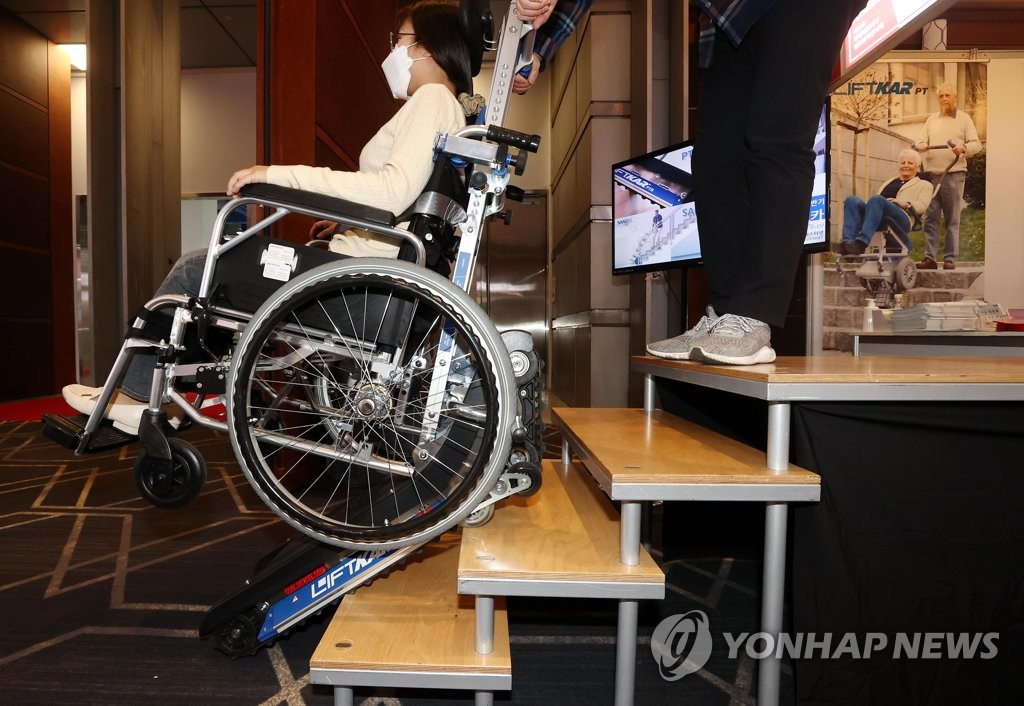wheelchair: (63, 3, 519, 541)
